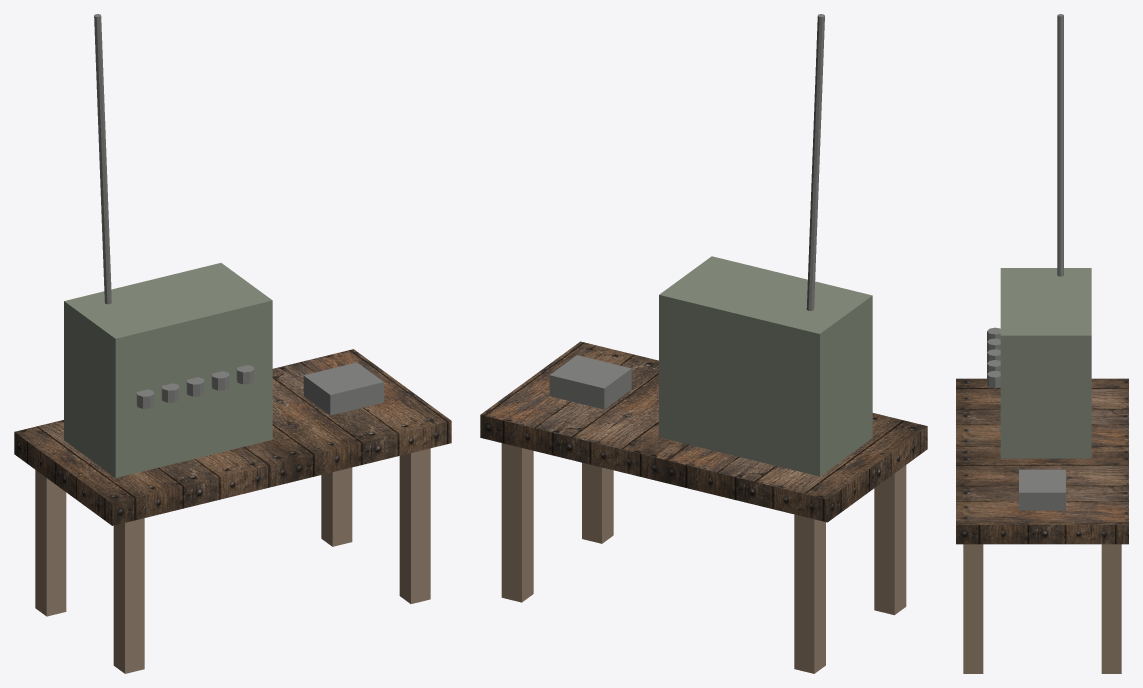
File: feldfunk_tisch_1944.glb
The picture shows the model from 3 angles, left to right: view 1: azimuth 30°, elevation 25°; view 2: azimuth 150°, elevation 25°; view 3: azimuth 270°, elevation 25°; orthographic projection. The views are drawn at different scales.
Parts seen in each view (by area): view 1: feldfunk_tisch_1944_005, feldfunk_tisch_1944_000, feldfunk_tisch_1944_004, feldfunk_tisch_1944_002, feldfunk_tisch_1944_001, feldfunk_tisch_1944_012, feldfunk_tisch_1944_003, feldfunk_tisch_1944_011; view 2: feldfunk_tisch_1944_005, feldfunk_tisch_1944_000, feldfunk_tisch_1944_003, feldfunk_tisch_1944_001, feldfunk_tisch_1944_002, feldfunk_tisch_1944_012, feldfunk_tisch_1944_004, feldfunk_tisch_1944_011; view 3: feldfunk_tisch_1944_000, feldfunk_tisch_1944_005, feldfunk_tisch_1944_003, feldfunk_tisch_1944_004, feldfunk_tisch_1944_012, feldfunk_tisch_1944_011.
Part boxes in pixels (box(x1,y1,x2,y2)): feldfunk_tisch_1944_005: box(64, 263, 272, 477); feldfunk_tisch_1944_000: box(14, 349, 451, 525); feldfunk_tisch_1944_004: box(399, 448, 430, 603); feldfunk_tisch_1944_002: box(113, 518, 144, 673); feldfunk_tisch_1944_001: box(35, 470, 66, 616); feldfunk_tisch_1944_012: box(303, 362, 383, 415); feldfunk_tisch_1944_003: box(321, 467, 352, 546); feldfunk_tisch_1944_011: box(94, 14, 111, 304); feldfunk_tisch_1944_005: box(659, 256, 872, 476); feldfunk_tisch_1944_000: box(480, 341, 927, 522); feldfunk_tisch_1944_003: box(501, 443, 533, 602); feldfunk_tisch_1944_001: box(794, 514, 825, 673); feldfunk_tisch_1944_002: box(874, 465, 906, 615); feldfunk_tisch_1944_012: box(549, 355, 631, 409); feldfunk_tisch_1944_004: box(582, 462, 613, 543); feldfunk_tisch_1944_011: box(806, 14, 824, 310); feldfunk_tisch_1944_000: box(956, 378, 1128, 544); feldfunk_tisch_1944_005: box(1000, 268, 1091, 458); feldfunk_tisch_1944_003: box(1101, 544, 1121, 673); feldfunk_tisch_1944_004: box(963, 544, 983, 673); feldfunk_tisch_1944_012: box(1019, 469, 1065, 510); feldfunk_tisch_1944_011: box(1057, 14, 1063, 276).
Bounding box in the file's own units: 1.9 × 3.27 × 0.95.
Materials: 1 (1 with a texture image).
